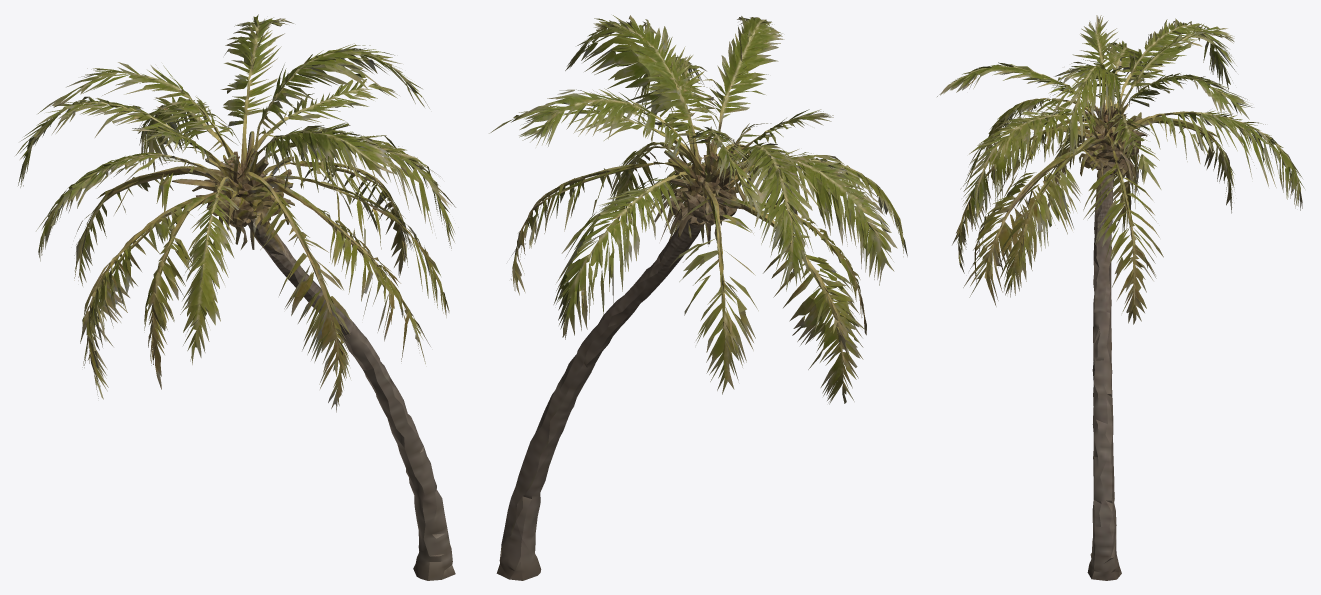
The model's file is palm-tree.glb.
The picture shows the model from 3 angles, left to right: view 1: azimuth 30°, elevation 25°; view 2: azimuth 150°, elevation 25°; view 3: azimuth 270°, elevation 25°; orthographic projection. The views are drawn at different scales.
Parts seen in each view (by area): view 1: Mesh_0; view 2: Mesh_0; view 3: Mesh_0.
Boxes of the visible parts, x1,y1,x2,y2 form: Mesh_0: (15, 14, 455, 580); Mesh_0: (489, 15, 907, 580); Mesh_0: (937, 15, 1304, 580).
Bounding box in the file's own units: 1.42 × 1.89 × 1.36.
1 material, 1 textured.
